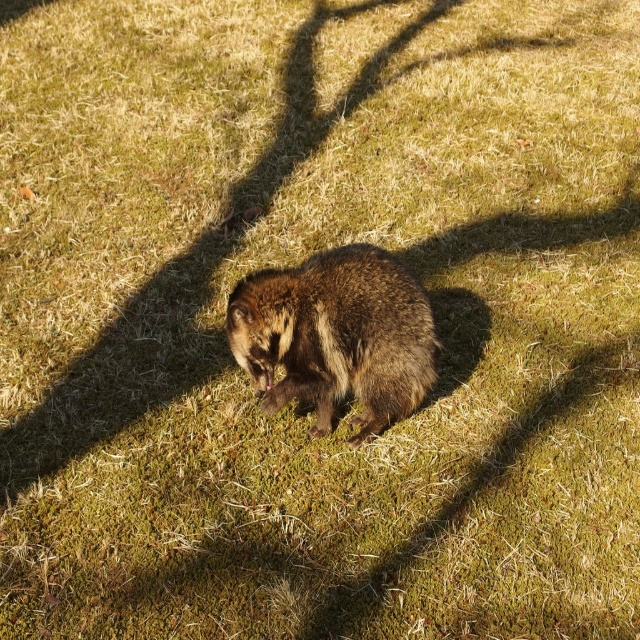Raccoon: (225, 250, 440, 445)
